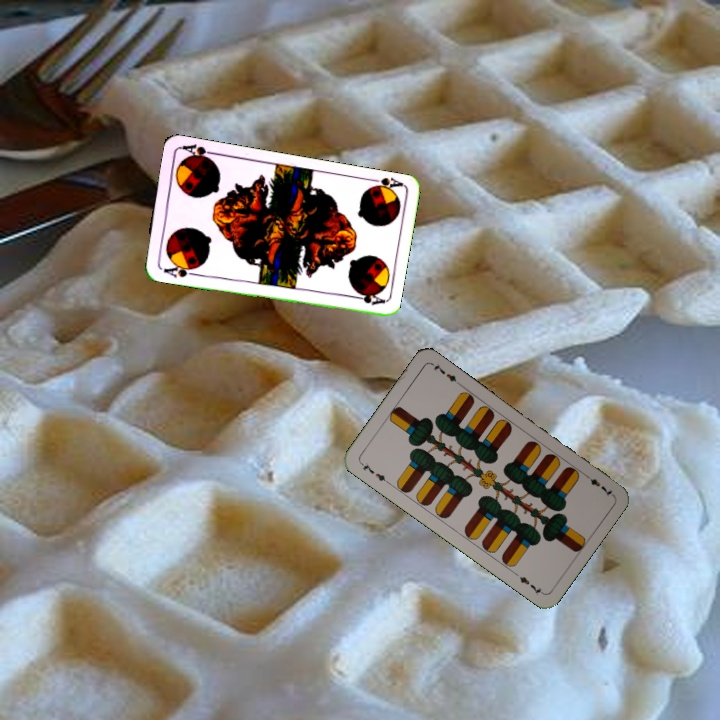E7: (580, 470, 616, 499), (356, 459, 392, 487)
SA: (364, 173, 405, 195), (157, 260, 199, 280)
